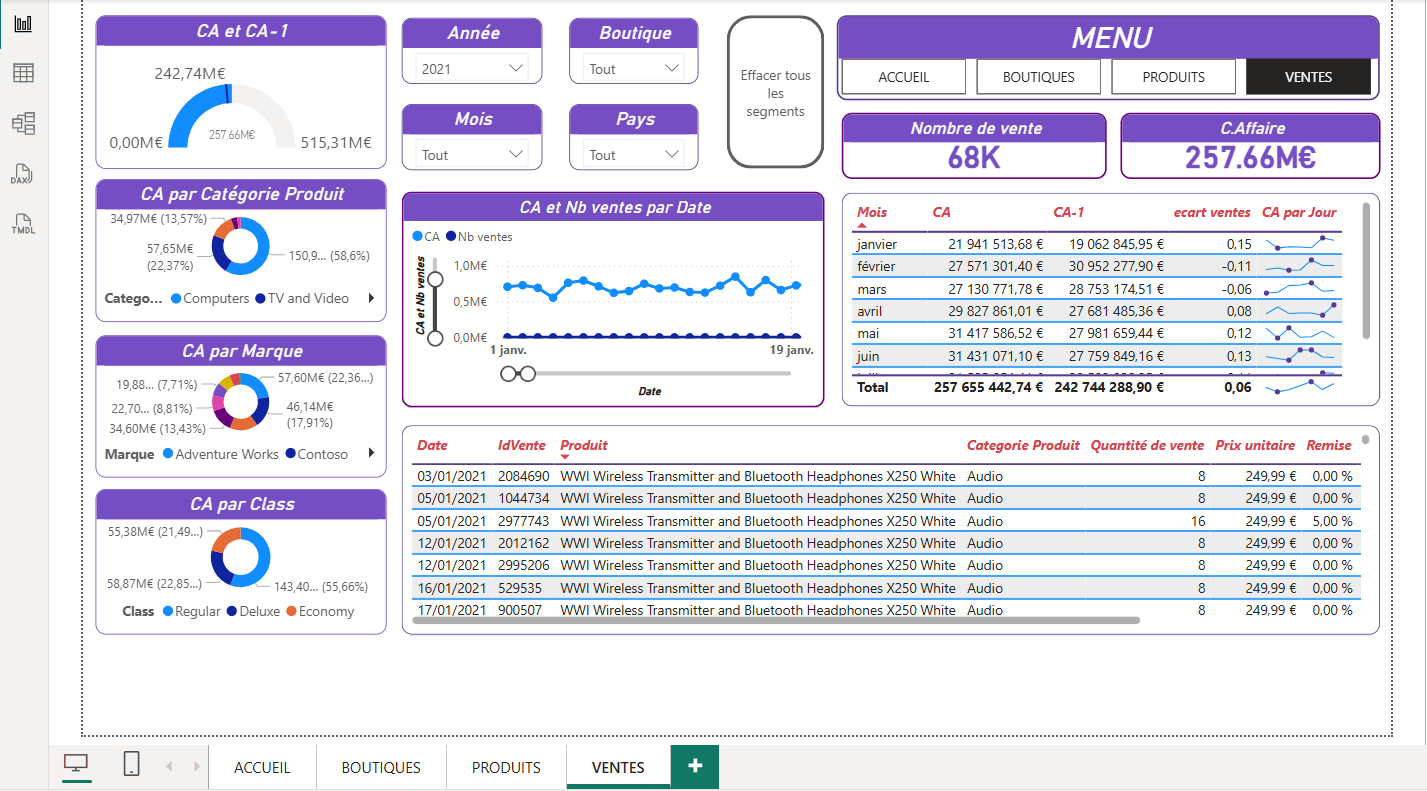

Layout of this report page (visuals, bound fields, positions):
{"tool":"powerbi","page":{"name":"VENTES","canvas":[1280,720],"ordinal":3},"visuals":[{"type":"pieChart","title":"CA par Catégorie Produit","fields":{"Y":["sales.CA"],"Category":["Categorie Produits.Categorie Produit"]},"box":[12.2,175.6,284.4,140],"z":0},{"type":"pieChart","title":"CA par Marque","fields":{"Y":["sales.CA"],"Category":["Produits.Marque"]},"box":[12.2,328.9,284.4,138.9],"z":1000},{"type":"pieChart","title":"CA par Class","fields":{"Y":["sales.CA"],"Category":["Produits.Class"]},"box":[12.2,478.9,284.4,142.2],"z":2000},{"type":"slicer","title":"Année","fields":{"Values":["DataTable.Année"]},"box":[312.2,18.9,137.8,64.4],"z":3000},{"type":"slicer","title":"Mois","fields":{"Values":["DataTable.Mois"]},"box":[312.2,102.2,137.8,64.4],"z":4000},{"type":"tableEx","fields":{"Values":["DataTable.Date","sales.IdVente","Produits.Produit","Categorie Produits.Categorie Produit","sales.Quantité de vente","Produits.Prix unitaire","sales.Remise","sales.Montant vente après remise","sales.Montant vente"]},"box":[312.2,416.7,956.7,204.4],"z":5000},{"type":"lineChart","fields":{"Category":["DataTable.Date"],"Y":["sales.CA","sales.Nb ventes"]},"box":[312.2,187.8,413.3,211.1],"z":6000},{"type":"gauge","fields":{"Y":["sales.CA"],"TargetValue":["sales.CA-1"]},"box":[12.2,15.6,284.4,150],"z":7000},{"type":"tableEx","fields":{"Values":["DataTable.Mois","sales.CA","sales.CA-1","sales.ecart ventes","SparklineData(sales.CA_[DataTable.Jour])"]},"box":[742.2,190,526.7,208.9],"z":8000},{"type":"card","title":"Nombre de vente","fields":{"Values":["sales.Nb ventes"]},"box":[742.2,111.1,258.9,64.4],"z":9000},{"type":"card","title":"C.Affaire","fields":{"Values":["sales.CA"]},"box":[1014.4,111.1,254.4,64.4],"z":10000},{"type":"slicer","title":"Pays","fields":{"Values":["Geographie.Pays"]},"box":[475.6,102.2,126.7,64.4],"z":11000},{"type":"slicer","title":"Boutique","fields":{"Values":["Boutiques.Boutique"]},"box":[475.6,18.9,126.7,64.4],"z":12000},{"type":"actionButton","box":[630,15.6,95.6,150],"z":13000},{"type":"pageNavigator","title":"MENU","box":[737.8,15.6,531.1,83.3],"z":14000}]}

Visuals, with their boxes on the page's 1280x720 design canvas (x1, y1, x2, y2). These are canvas units, not pixel positions in the 1427x791 screenshot, which may show the page scaled, cropped or inside an application window:
"CA par Catégorie Produit" pieChart: (x1=12, y1=176, x2=297, y2=316)
"CA par Marque" pieChart: (x1=12, y1=329, x2=297, y2=468)
"CA par Class" pieChart: (x1=12, y1=479, x2=297, y2=621)
"Année" slicer: (x1=312, y1=19, x2=450, y2=83)
"Mois" slicer: (x1=312, y1=102, x2=450, y2=167)
tableEx - DataTable.Date x sales.IdVente: (x1=312, y1=417, x2=1269, y2=621)
lineChart - DataTable.Date x sales.CA: (x1=312, y1=188, x2=726, y2=399)
gauge - sales.CA x sales.CA-1: (x1=12, y1=16, x2=297, y2=166)
tableEx - DataTable.Mois x sales.CA: (x1=742, y1=190, x2=1269, y2=399)
"Nombre de vente" card: (x1=742, y1=111, x2=1001, y2=176)
"C.Affaire" card: (x1=1014, y1=111, x2=1269, y2=176)
"Pays" slicer: (x1=476, y1=102, x2=602, y2=167)
"Boutique" slicer: (x1=476, y1=19, x2=602, y2=83)
actionButton: (x1=630, y1=16, x2=726, y2=166)
"MENU" pageNavigator: (x1=738, y1=16, x2=1269, y2=99)
